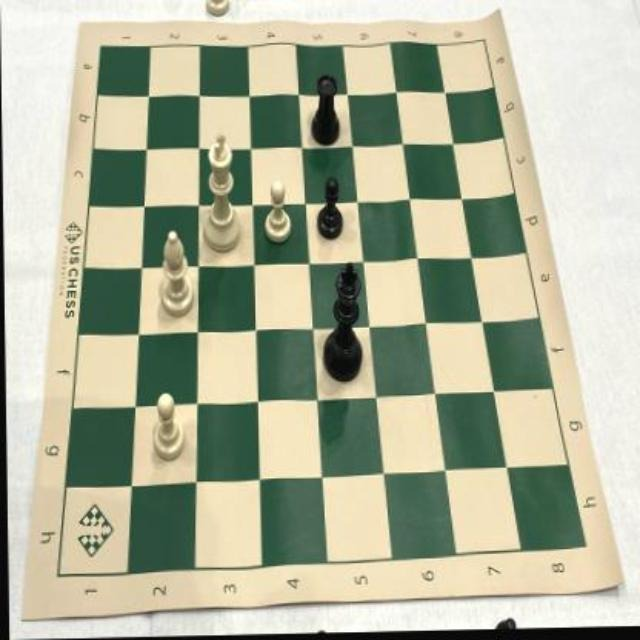black-king: (317, 261, 366, 391)
black-pawn: (313, 179, 342, 248)
black-rook: (307, 73, 343, 151)
white-bishop: (155, 228, 195, 320)
white-king: (202, 132, 242, 258)
white-pawn: (151, 389, 185, 464), (261, 176, 293, 248)
